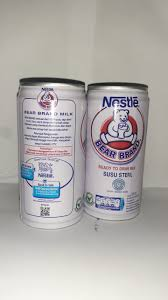metal: (15, 75, 84, 231), (81, 83, 152, 222)
